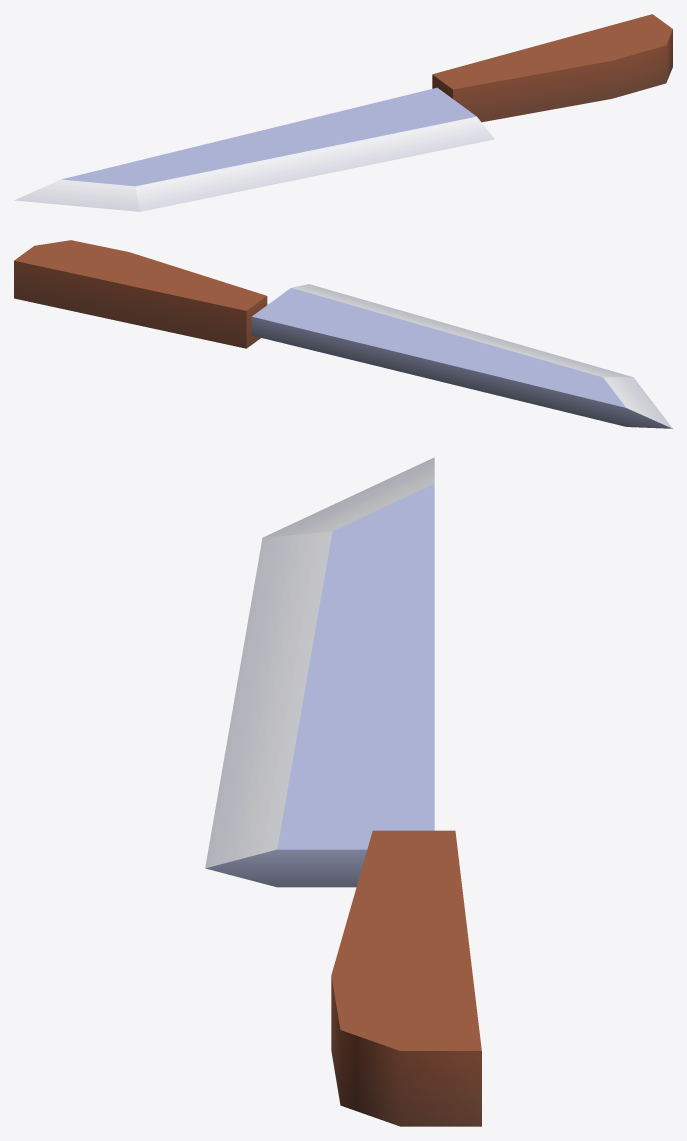
Rendered from kenney-food-cooking-knife.glb.
3 views of the same model, one above another, from view 1: azimuth 30°, elevation 25°; view 2: azimuth 150°, elevation 25°; view 3: azimuth 270°, elevation 25° (orthographic). The views are drawn at different scales.
Visible parts, largest first — view 1: cooking-knife; view 2: cooking-knife; view 3: cooking-knife.
Boxes of the visible parts, x1,y1,x2,y2 form: cooking-knife: [14, 14, 672, 211]; cooking-knife: [14, 240, 672, 428]; cooking-knife: [205, 457, 481, 1126].
Bounding box in the file's own units: 0.7162 × 0.04 × 0.1326.
1 material, 1 textured.
